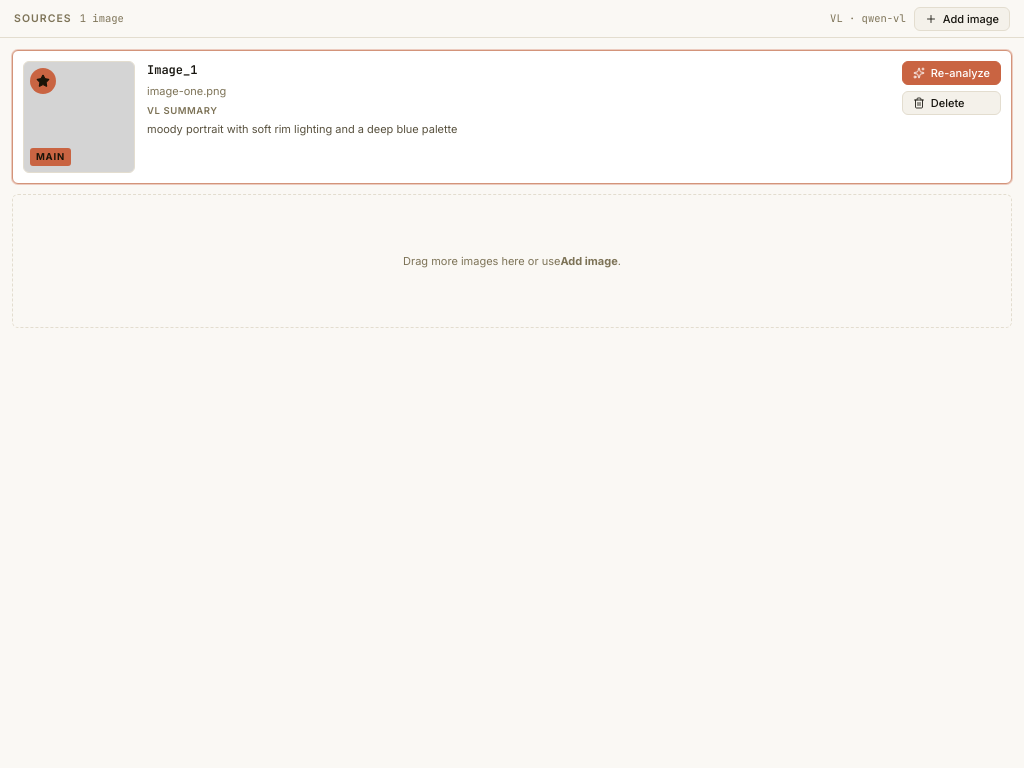
SourceImagesPane › clicking the brief analysis opens the detail modal
Click the button with aria-label "show full analysis": (302, 129) [147, 122, 890, 138]
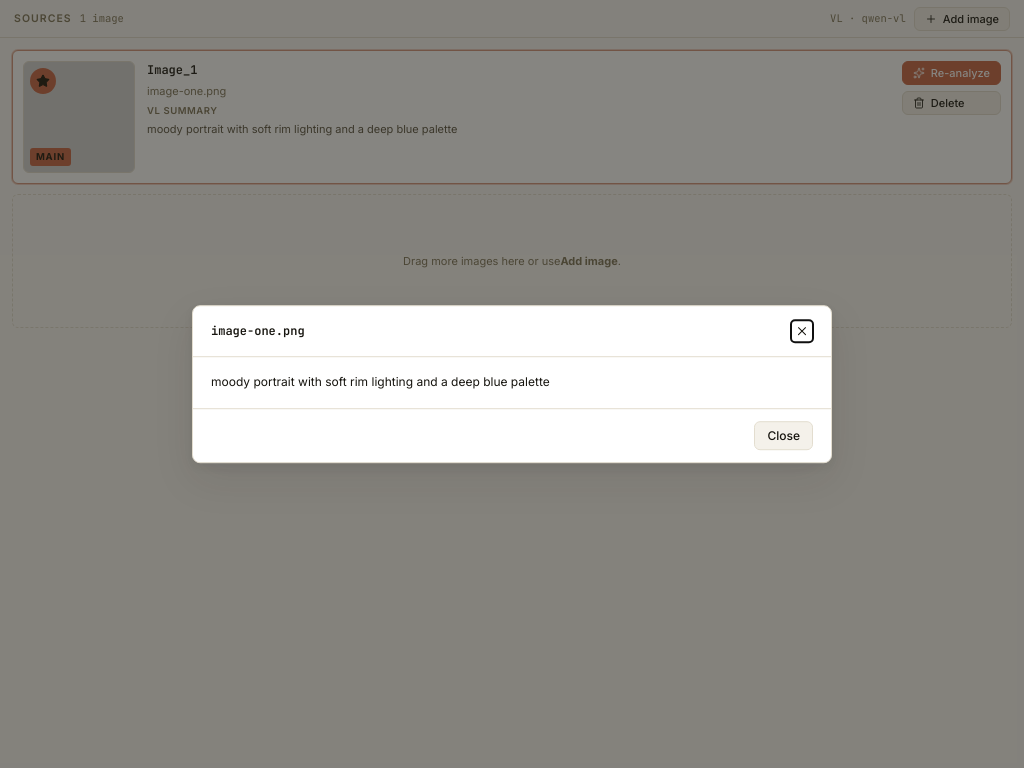
Now the dialog shows "moody portrait with soft rim lighting", box [211, 374, 550, 389]
Now the dialog shows "image-one.png", box [211, 323, 305, 339]
